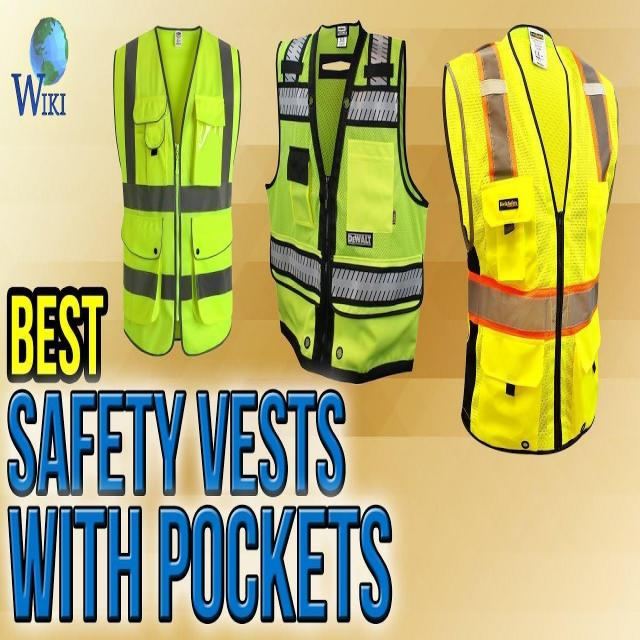vest: (441, 18, 619, 458), (265, 20, 429, 384), (109, 21, 241, 358)
